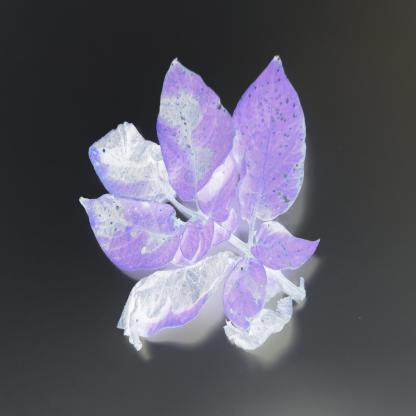potato leaf early blight: (102, 250, 246, 350), (228, 55, 306, 222), (75, 188, 209, 274), (156, 57, 231, 200), (84, 119, 180, 205)
